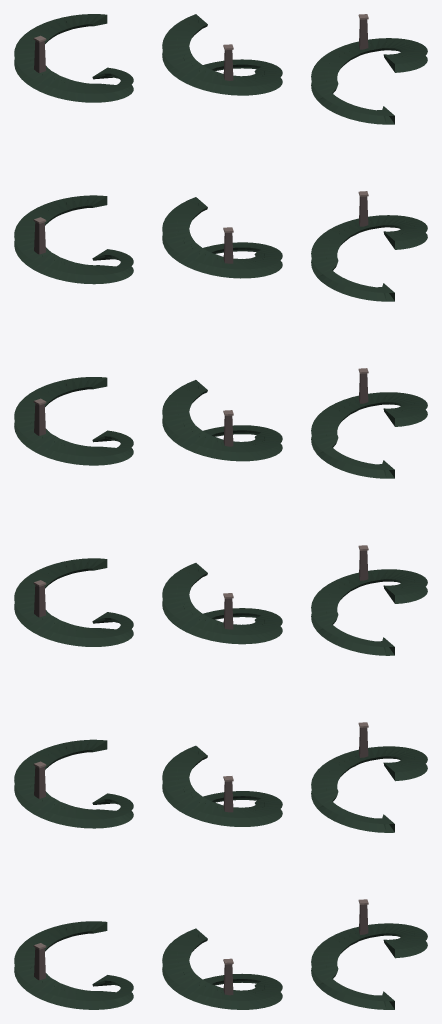
3 renders of one model, left to right at view 1: azimuth 90°, elevation 25°; view 2: azimuth 150°, elevation 25°; view 3: azimuth 330°, elevation 25°, orthographic. The views are drawn at different scales.
Parts seen in each view (by area): view 1: Circle5; view 2: Circle5; view 3: Circle5.
Boxes of the visible parts, bbox=[...] form: Circle5: bbox=[14, 14, 133, 1009]; Circle5: bbox=[162, 14, 282, 1009]; Circle5: bbox=[311, 14, 427, 1009].
Size of the model in its own units: 38.86 by 350 by 38.86.
1 material, 1 textured.
